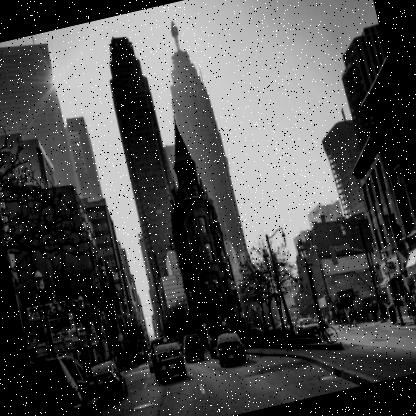Car: (29, 345, 106, 415), (88, 357, 128, 404), (148, 342, 186, 382), (214, 328, 246, 366), (204, 322, 232, 356), (180, 332, 204, 364)
